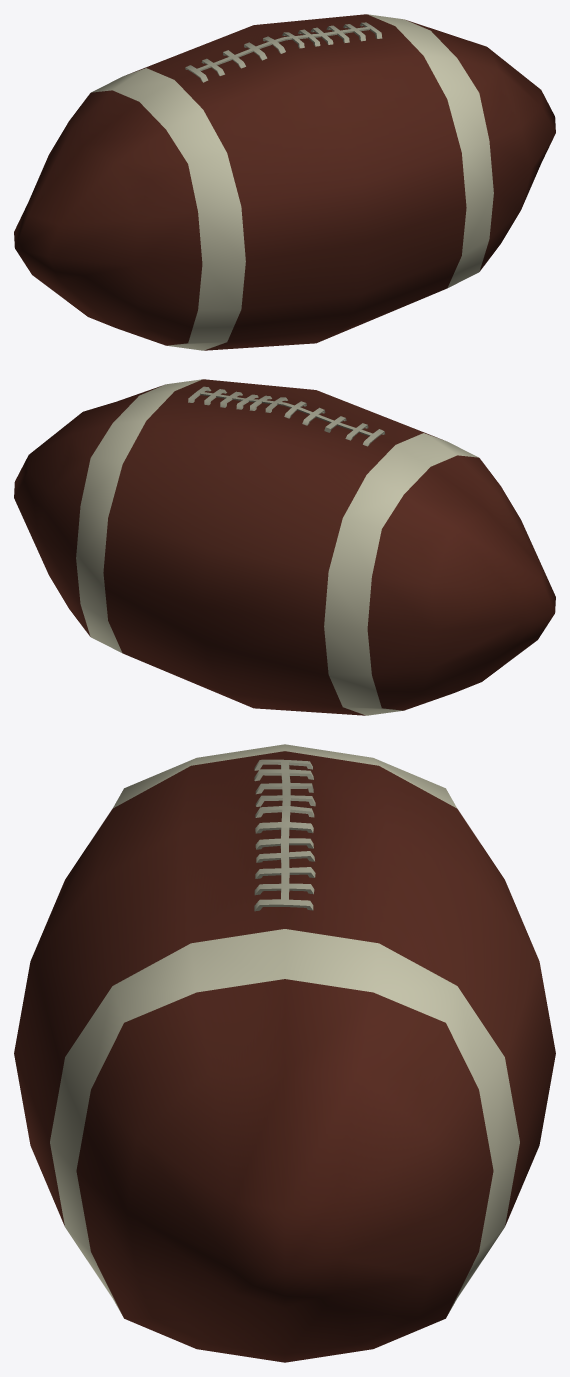
File: human-sports-american-football_v2.glb
The picture shows the model from 3 angles, top to bottom: view 1: azimuth 30°, elevation 25°; view 2: azimuth 150°, elevation 25°; view 3: azimuth 270°, elevation 25°; orthographic projection. The views are drawn at different scales.
Parts seen in each view (by area): view 1: American Football_v2; view 2: American Football_v2; view 3: American Football_v2.
Boxes of the visible parts, x1,y1,x2,y2 form: American Football_v2: [14, 14, 555, 350]; American Football_v2: [14, 379, 555, 715]; American Football_v2: [14, 744, 555, 1362].
Bounding box in the file's own units: 0.28 × 0.1446 × 0.1474.
